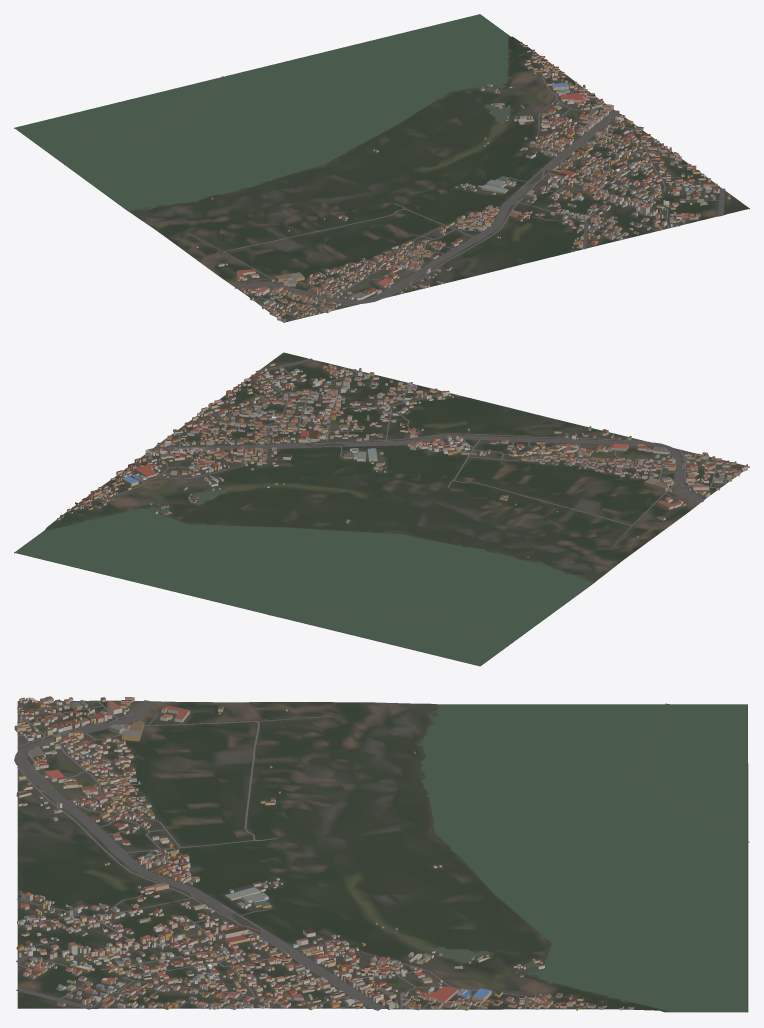
3 renders of one model, top to bottom at view 1: azimuth 30°, elevation 25°; view 2: azimuth 150°, elevation 25°; view 3: azimuth 270°, elevation 25°, orthographic. The views are drawn at different scales.
Visible parts, largest first — view 1: ground, water, buildings, roads; view 2: ground, water, buildings, roads; view 3: ground, water, buildings, roads.
Part boxes in pixels (x1,y1,x2,y2): ground: (14,16,749,322); water: (15,14,721,211); buildings: (196,42,730,321); roads: (188,72,725,318); ground: (14,352,749,666); water: (15,373,594,665); buildings: (57,362,747,557); roads: (96,358,732,547); ground: (17,700,748,1012); water: (92,703,749,1011); buildings: (14,696,633,1010); roads: (14,700,527,1010).
Bounding box in the file's own units: 1415 × 31.09 × 1412.
